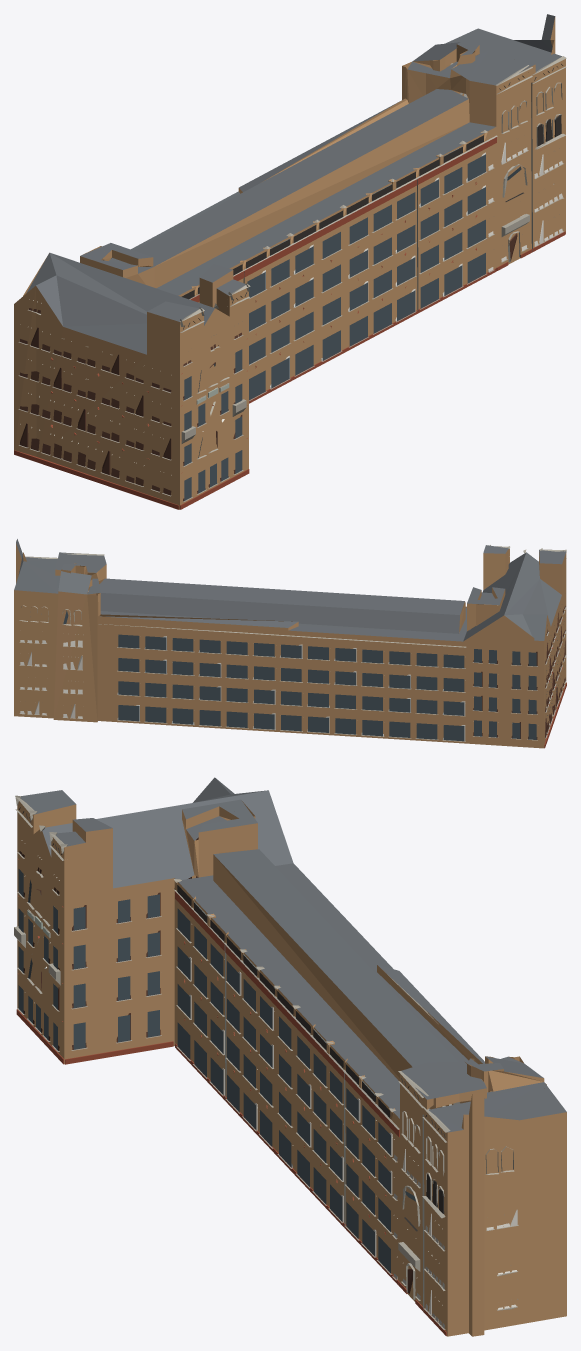
File: asscher-diamantslijperij.lod1.glb
3 views of the same model, one above another, from view 1: azimuth 30°, elevation 25°; view 2: azimuth 150°, elevation 25°; view 3: azimuth 270°, elevation 25° (orthographic). The views are drawn at different scales.
Parts seen in each view (by area): view 1: asscher-diamantslijperij; view 2: asscher-diamantslijperij; view 3: asscher-diamantslijperij.
Part boxes in pixels (x1,y1,x2,y2): asscher-diamantslijperij: [14, 14, 566, 509]; asscher-diamantslijperij: [14, 539, 566, 748]; asscher-diamantslijperij: [14, 777, 566, 1336].
Size of the model in its own units: 85.77 by 26.89 by 55.49.
